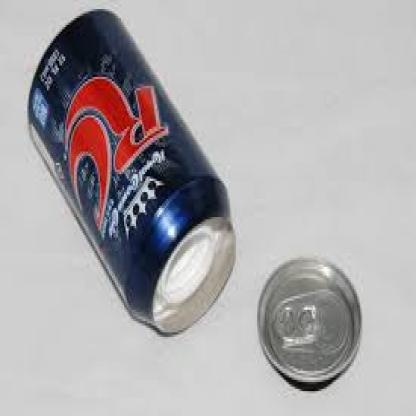trash: (29, 9, 234, 333)
